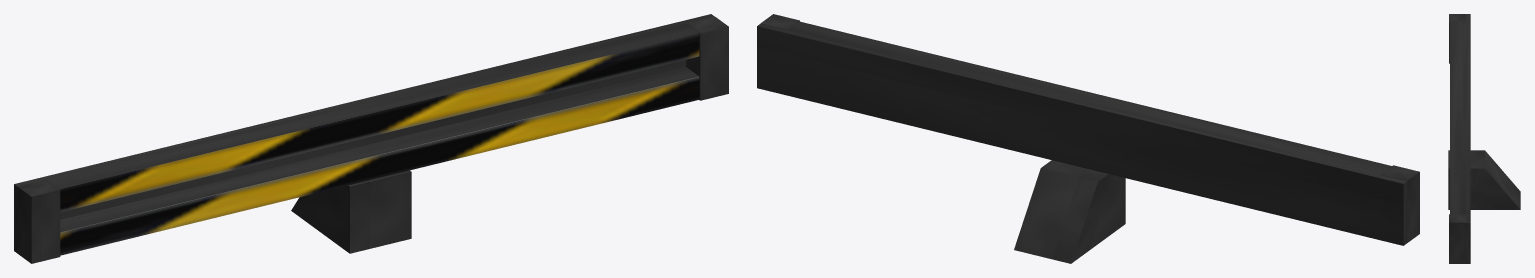
Rendered from RoverChassisAdapter.FBX.
3 renders of one model, left to right at view 1: azimuth 30°, elevation 25°; view 2: azimuth 150°, elevation 25°; view 3: azimuth 270°, elevation 25°, orthographic. The views are drawn at different scales.
Parts seen in each view (by area): view 1: Box001, Box002, Box006, Box005, Box003, Box004; view 2: Box006, Box005, Box001, Box003; view 3: Box001, Box005, Box006, Box004, Box003.
Part boxes in pixels (x1,y1,x2,y2): Box001: (16,16,714,212); Box002: (16,67,699,255); Box006: (14,14,713,253); Box005: (291,170,411,253); Box003: (17,179,60,263); Box004: (686,16,728,100); Box006: (757,24,1406,245); Box005: (1014,160,1125,263); Box001: (760,21,1406,203); Box003: (1380,165,1419,242); Box001: (1450,14,1467,237); Box005: (1448,150,1520,209); Box006: (1466,14,1470,263); Box004: (1449,214,1465,263); Box003: (1449,14,1465,63).
Size of what is drawn, in the model's own units: 1.23 by 0.18 by 0.2266.
1 material, 1 textured.
